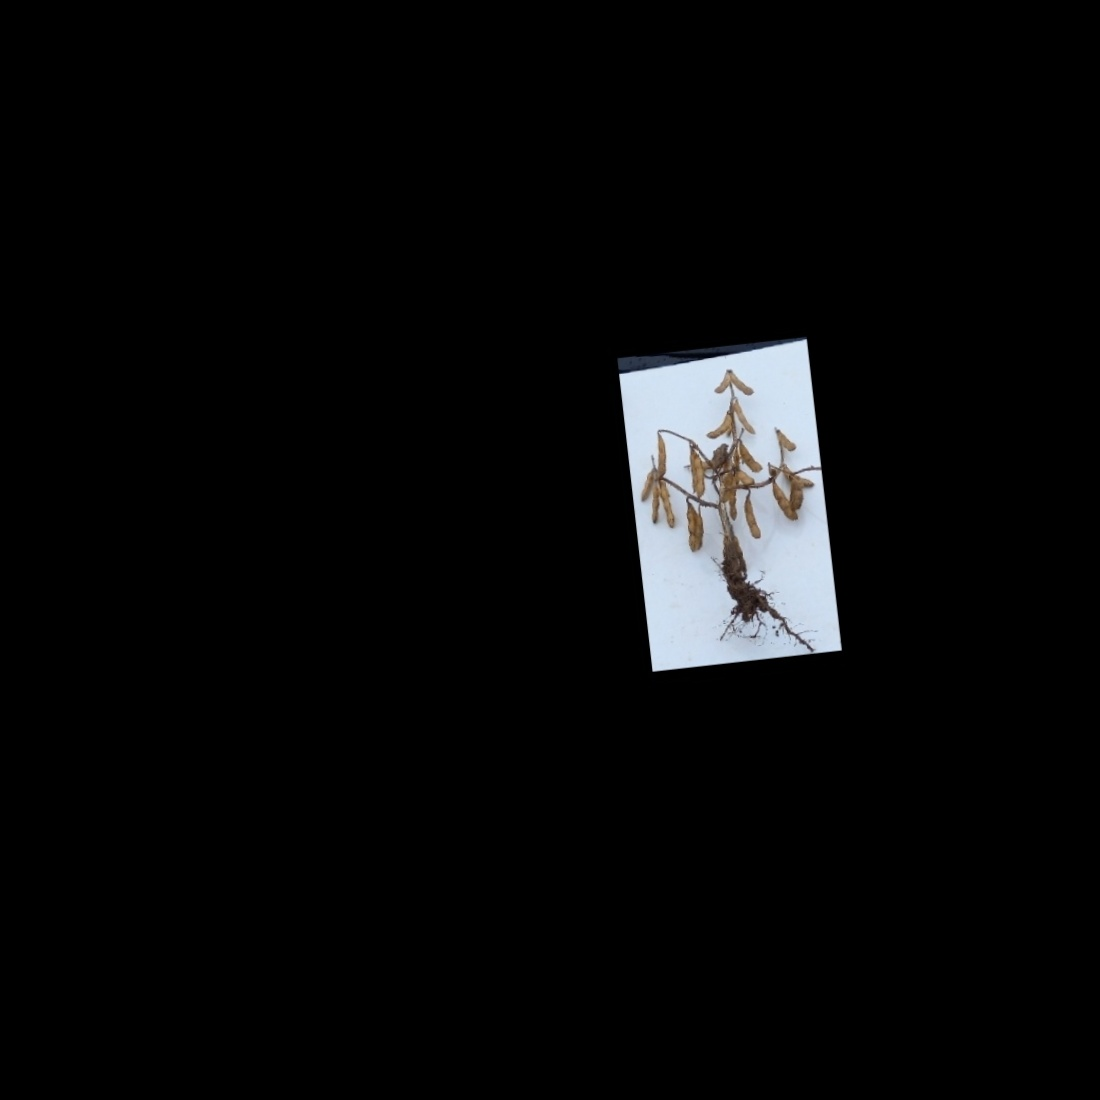pod: (768, 482, 799, 526), (676, 505, 700, 557), (702, 403, 736, 439), (740, 496, 763, 543), (657, 483, 677, 532), (734, 398, 759, 438), (738, 438, 764, 474), (729, 369, 757, 399), (653, 432, 668, 479), (692, 453, 707, 499), (776, 426, 799, 454), (685, 450, 698, 491), (735, 466, 757, 487), (727, 490, 739, 522)
soy: (622, 357, 831, 661)
